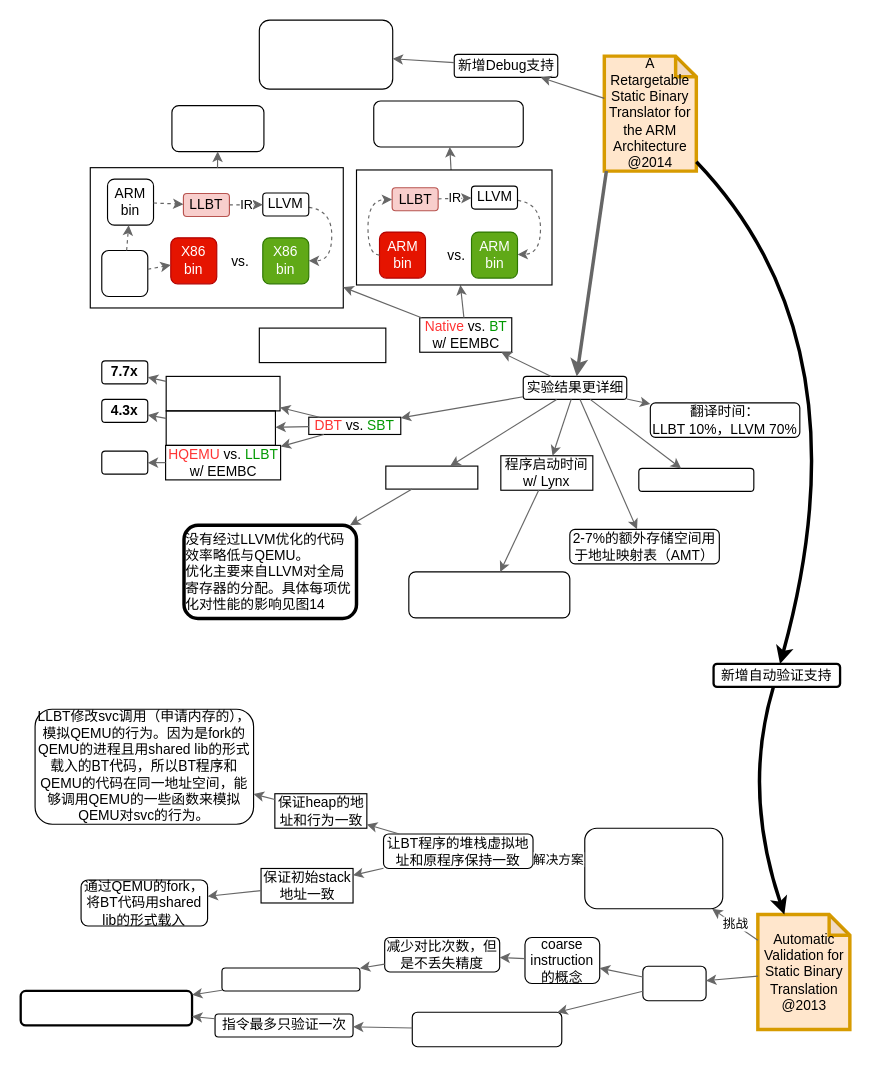
Some shapes in this 872 by 1067 pixel diagram are drawn without their labels. Each missing label, with the centre of its shape:
10.3x than QEMU X86 8.1x than QEMU X86-64: (x=489, y=594)
2.3x: (x=124, y=462)
55% X86 60% X86-64: (x=217, y=128)
90% unoptimized (-O0) 58% optimized (-O2): (x=448, y=123)
Code coverage的概念 80/20经验准则: (x=486, y=1029)
EEMBC is short run SPEC is long run: (x=322, y=345)
LLVM的贡献: (x=431, y=477)
QEMU vs. LLBT w/ EEMBC: (x=222, y=393)
QEMU vs. LLBT w/ SPEC: (x=220, y=427)
source code: (x=124, y=272)
利用LLVM的metadata可以将原程序的binary信息放到目标代码中: (x=325, y=54)
对比点=~1/3指令数: (x=290, y=979)
平均代码大小*1.5: (x=696, y=479)
运行验证比不运行验证慢： 27x -> 1.4x~1.9x: (x=106, y=1007)
需要对比寄存器的值。但寄存器的内容不一定是值，可能是地址，在两种架构里的地址可能不同。: (x=653, y=868)
验证器的性能优化: (x=674, y=983)
